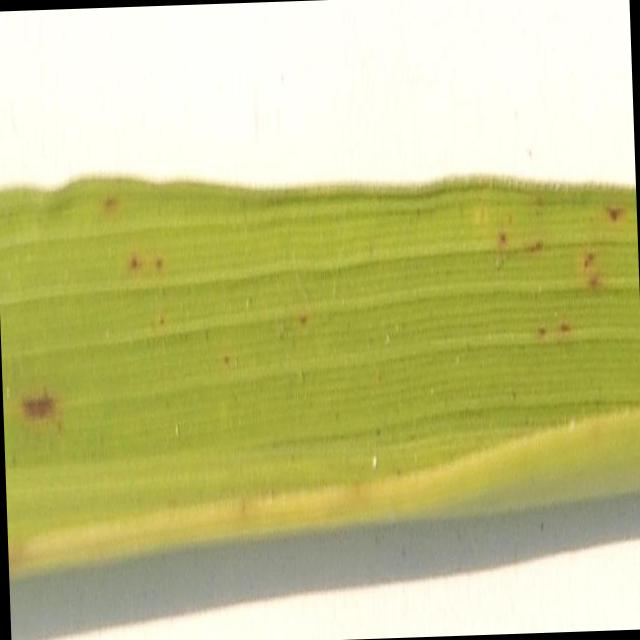Rice_Brownspot: (470, 94, 635, 359), (118, 224, 180, 330), (12, 369, 66, 436)
